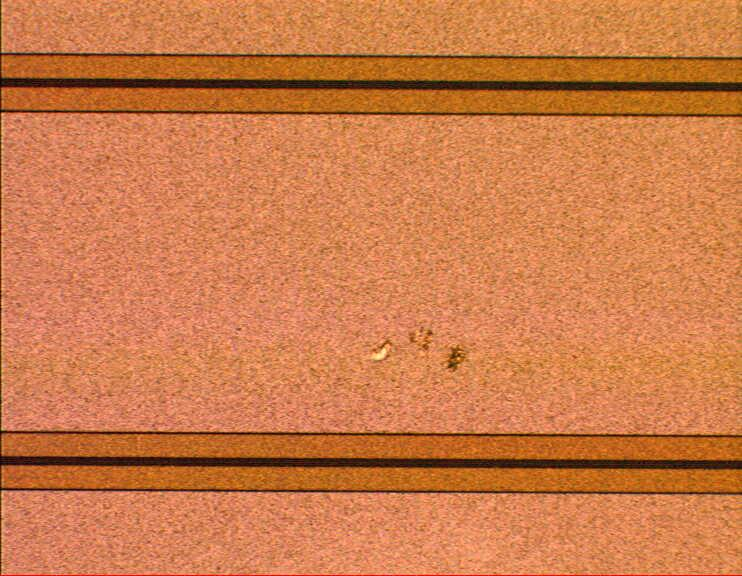SCRATCH: (344, 318, 489, 376)
